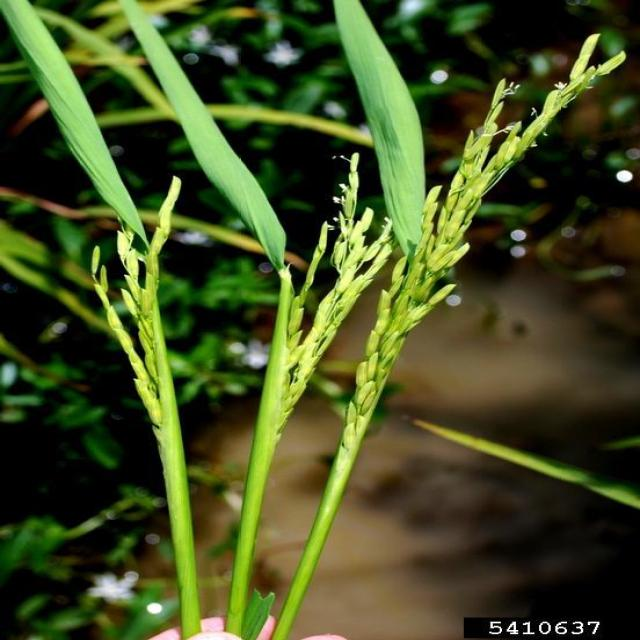Bacterial leaf blight: (126, 5, 314, 293), (341, 0, 480, 283), (8, 0, 110, 229)
